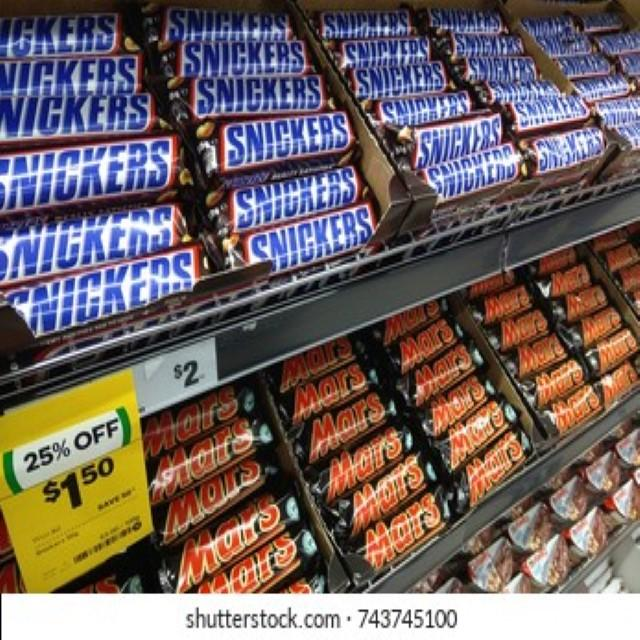mars_chocolate: (168, 400, 258, 488), (192, 502, 292, 565), (182, 456, 272, 522), (280, 368, 372, 430), (310, 400, 390, 463), (326, 433, 406, 492), (440, 370, 502, 445), (366, 486, 436, 546), (362, 448, 423, 512), (225, 540, 307, 585), (468, 416, 528, 472), (422, 345, 472, 403), (398, 318, 447, 374), (538, 260, 595, 303), (535, 387, 597, 418), (477, 275, 513, 325), (505, 312, 553, 343), (520, 342, 575, 368), (575, 300, 613, 335), (603, 335, 630, 372)
snickers_chocolate: (0, 248, 191, 333), (230, 148, 360, 247), (237, 200, 388, 285), (213, 100, 360, 180), (0, 143, 195, 192), (192, 67, 320, 123), (428, 130, 518, 198), (0, 12, 140, 55), (414, 90, 498, 158), (7, 218, 190, 248), (0, 100, 170, 132), (0, 53, 145, 90), (168, 35, 297, 72), (508, 73, 578, 127), (388, 70, 455, 117), (355, 55, 440, 87), (537, 132, 598, 172), (483, 42, 532, 85)
